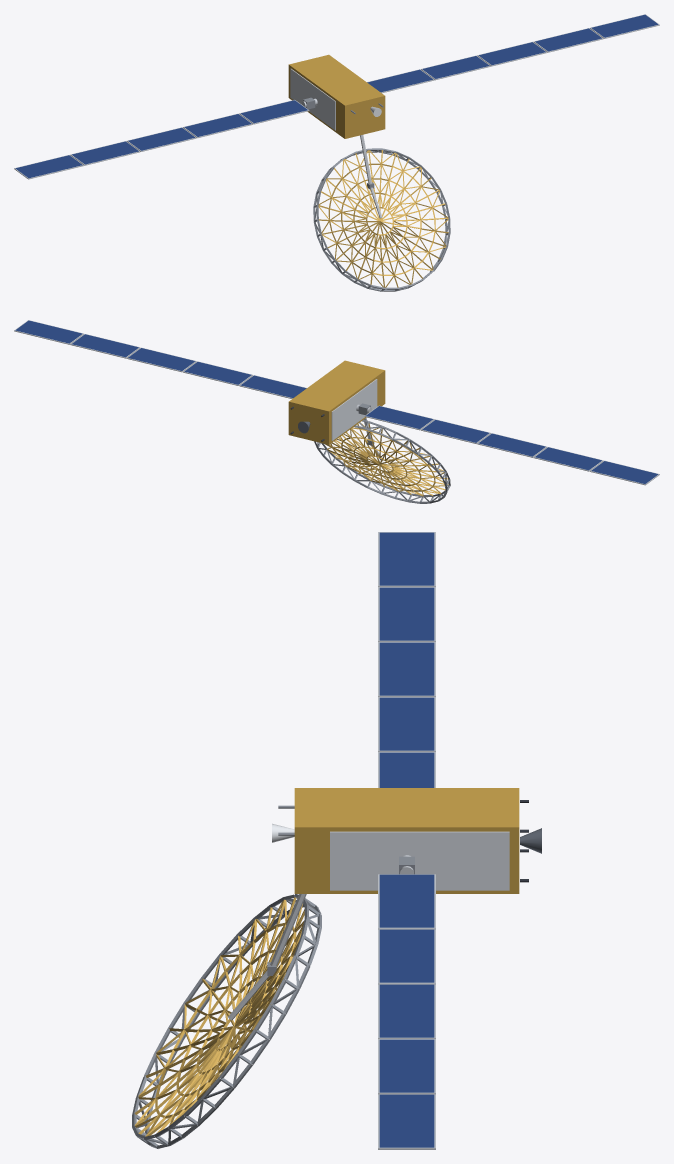
The model's file is inmarsat-4.glb.
3 views of the same model, one above another, from view 1: azimuth 30°, elevation 25°; view 2: azimuth 150°, elevation 25°; view 3: azimuth 270°, elevation 25° (orthographic). The views are drawn at different scales.
Parts seen in each view (by area): view 1: foil, solar-panel, body; view 2: foil, solar-panel, body; view 3: solar-panel, foil, body.
Boxes of the visible parts, <box> form: foil: <box>288,54,448,287</box>; solar-panel: <box>15,14,658,178</box>; body: <box>14,14,659,291</box>; foil: <box>288,360,448,496</box>; solar-panel: <box>15,320,658,483</box>; body: <box>14,320,659,503</box>; solar-panel: <box>379,532,434,1147</box>; foil: <box>134,788,519,1136</box>; body: <box>132,532,541,1149</box>.
Size of the model in its own units: 45.4 by 11.15 by 12.75.
